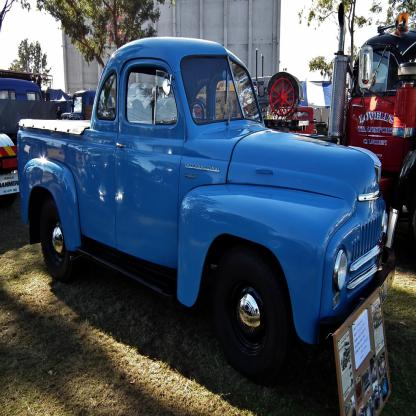Car: (40, 43, 383, 382)
Truck: (18, 50, 380, 383)
